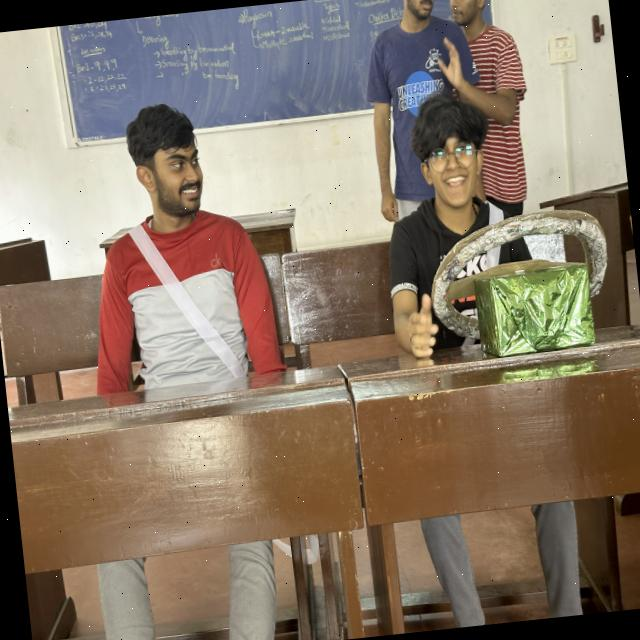seatbelt: (91, 209, 277, 393), (388, 188, 542, 364)
